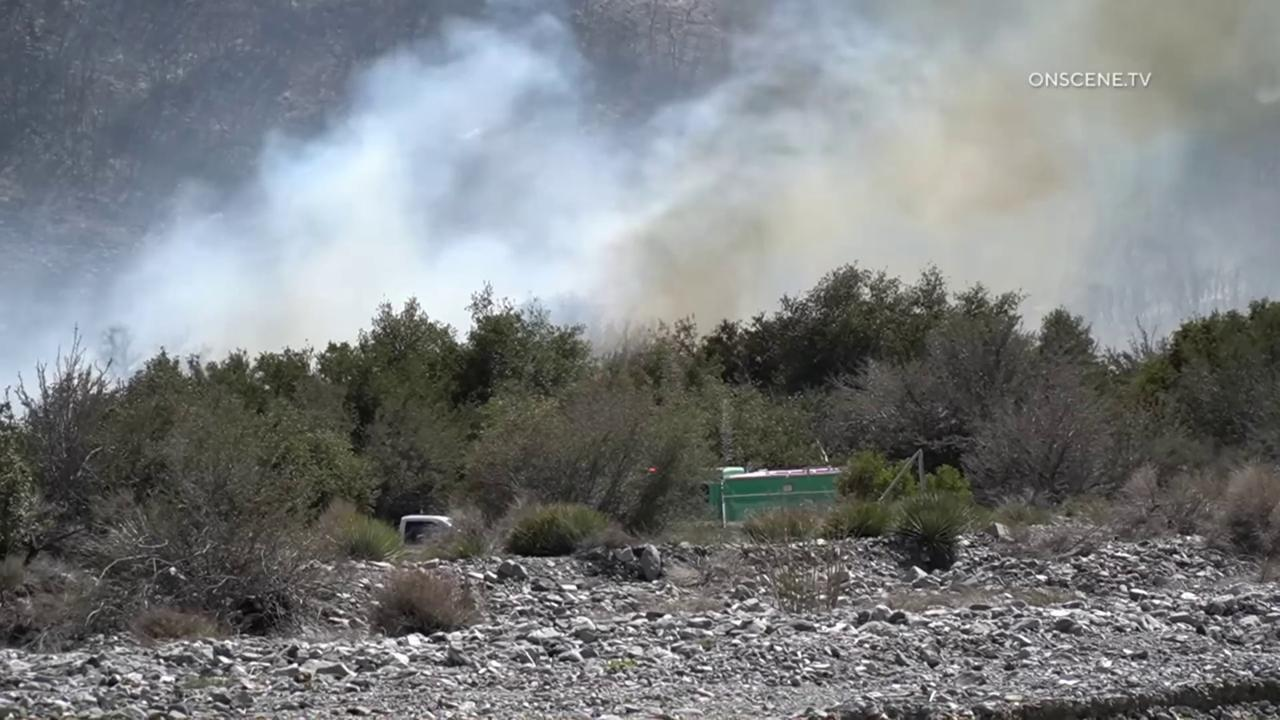fire: (648, 467, 657, 473)
smoke: (0, 0, 1280, 420)
